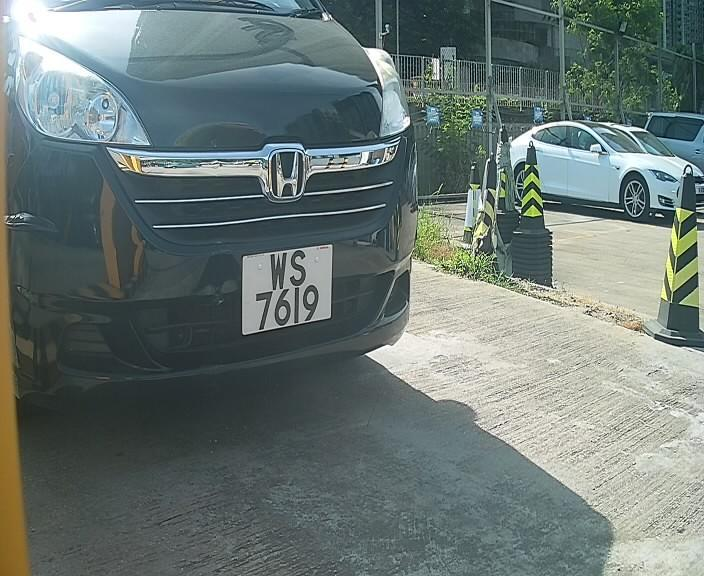privatecar: (4, 1, 425, 422)
